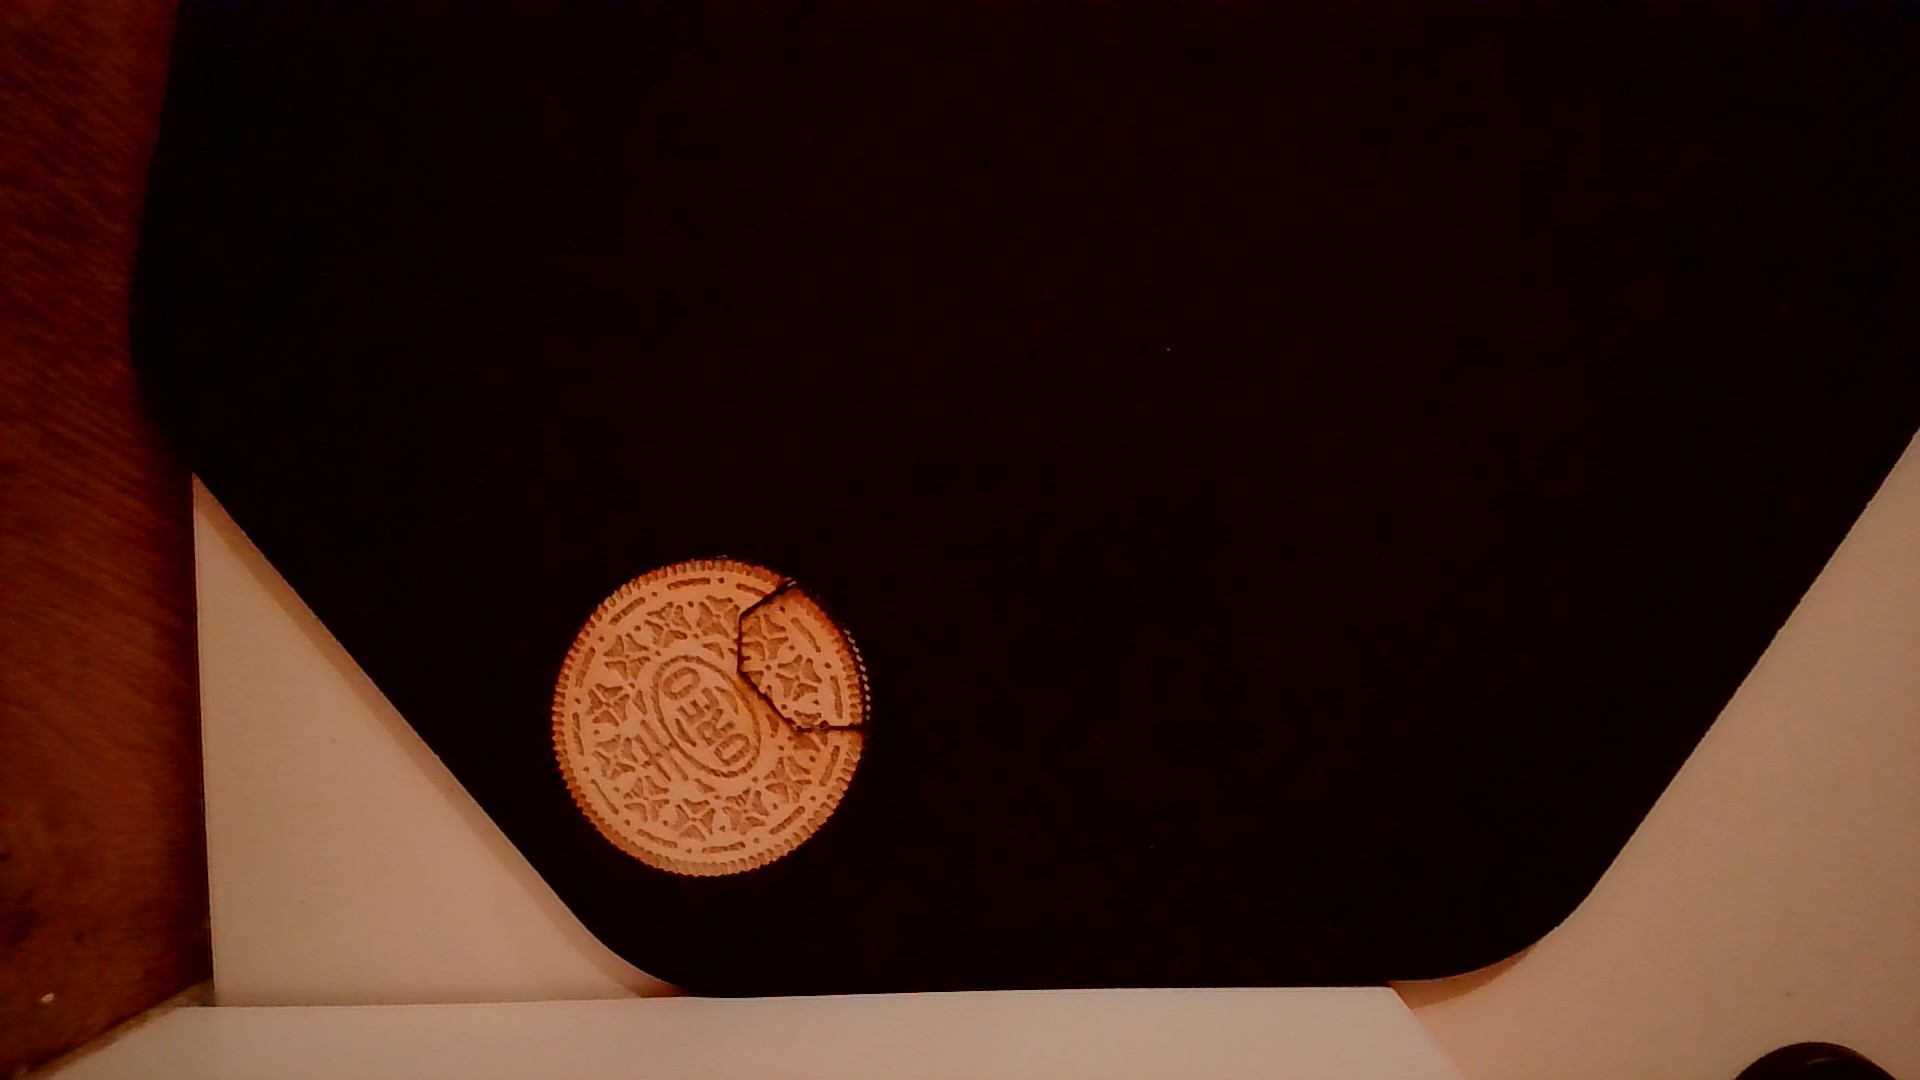Fissure: (727, 564, 874, 756)
Oréo: (545, 551, 878, 880)
